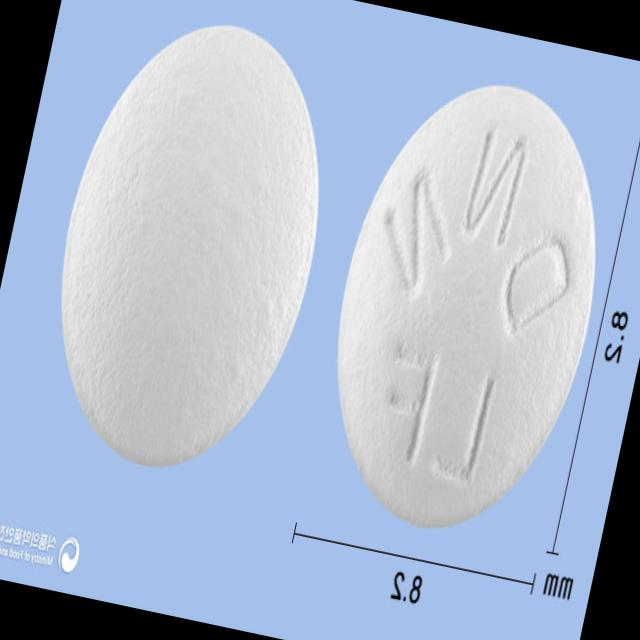Levoflcin: (296, 60, 634, 554), (21, 0, 356, 491)
